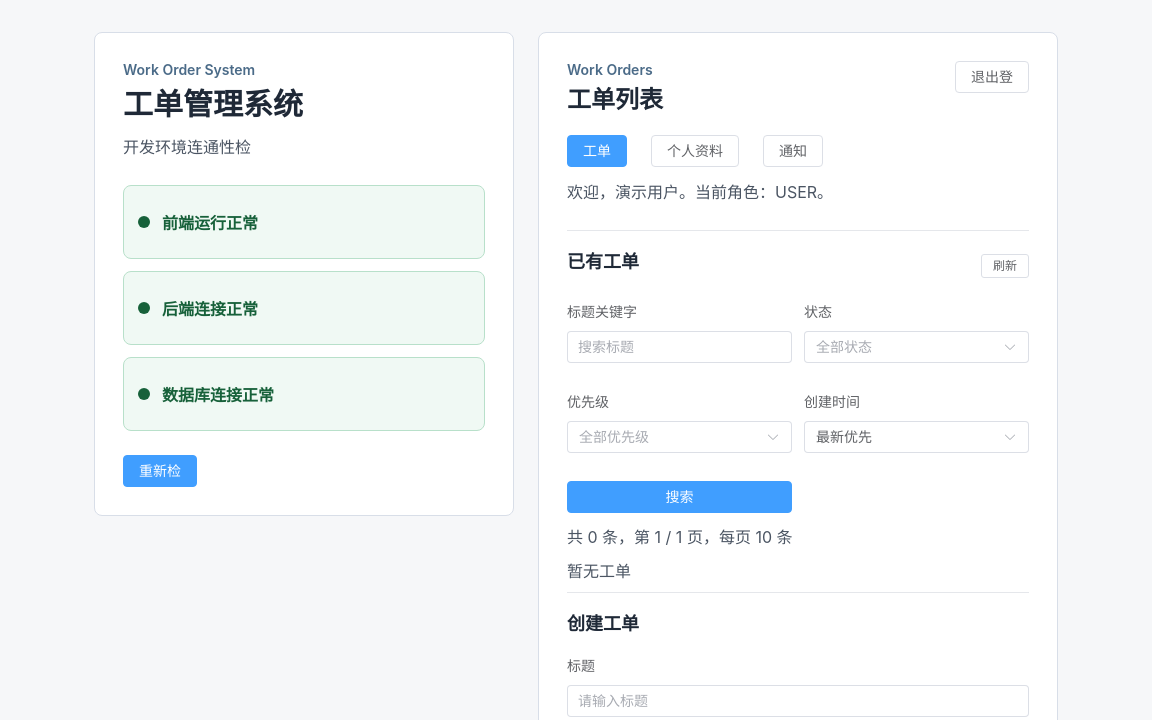
Scenario: App › changes password and returns to login view
Step 1. Click the button "个人资料" → (695, 151), box x1=651 y1=135 x2=739 y2=167
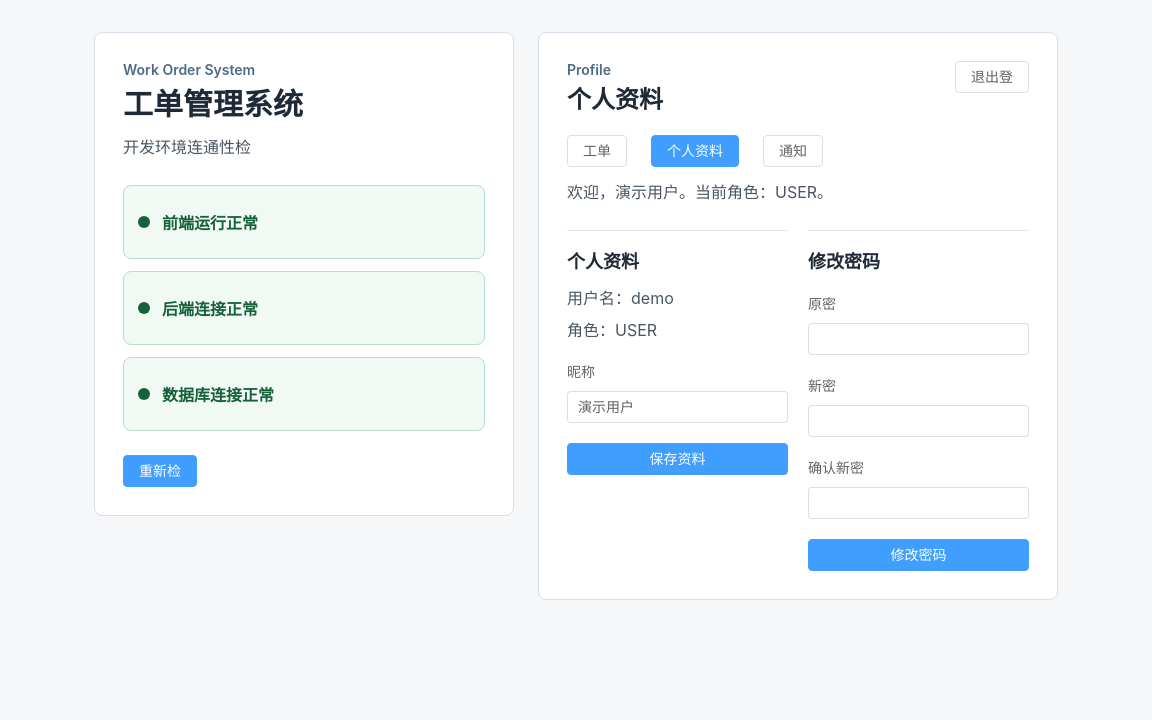
Step 2. Type "password123" into the password field labelled "原密" → (918, 339), box x1=819 y1=324 x2=1018 y2=354
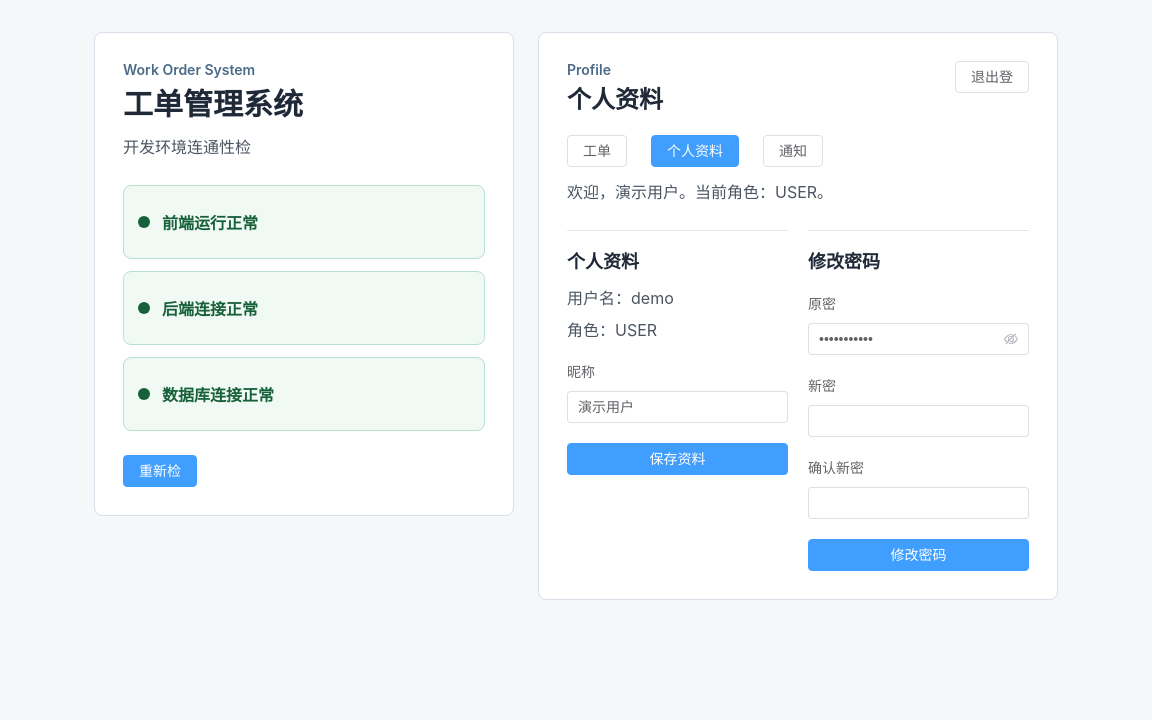
Step 3. Type "newpass123" into the password field labelled "新密" → (918, 421), box x1=819 y1=406 x2=1018 y2=436
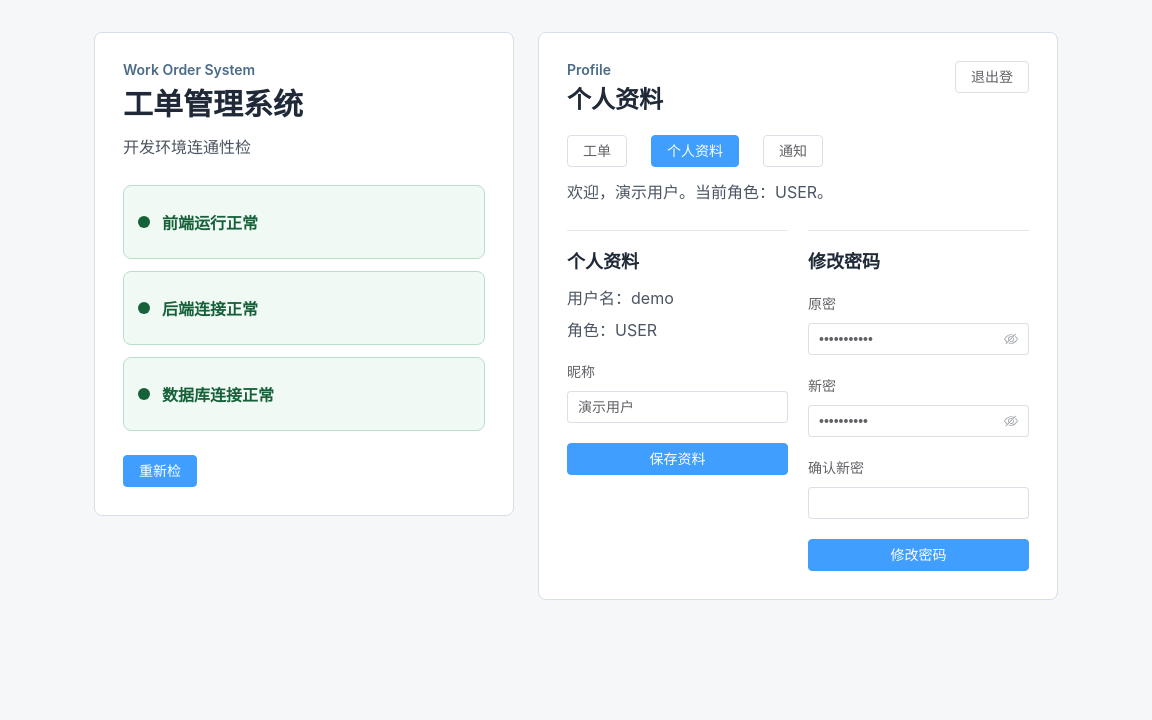
Step 4. Type "newpass123" into the password field labelled "确认新密" → (918, 503), box x1=819 y1=488 x2=1018 y2=518
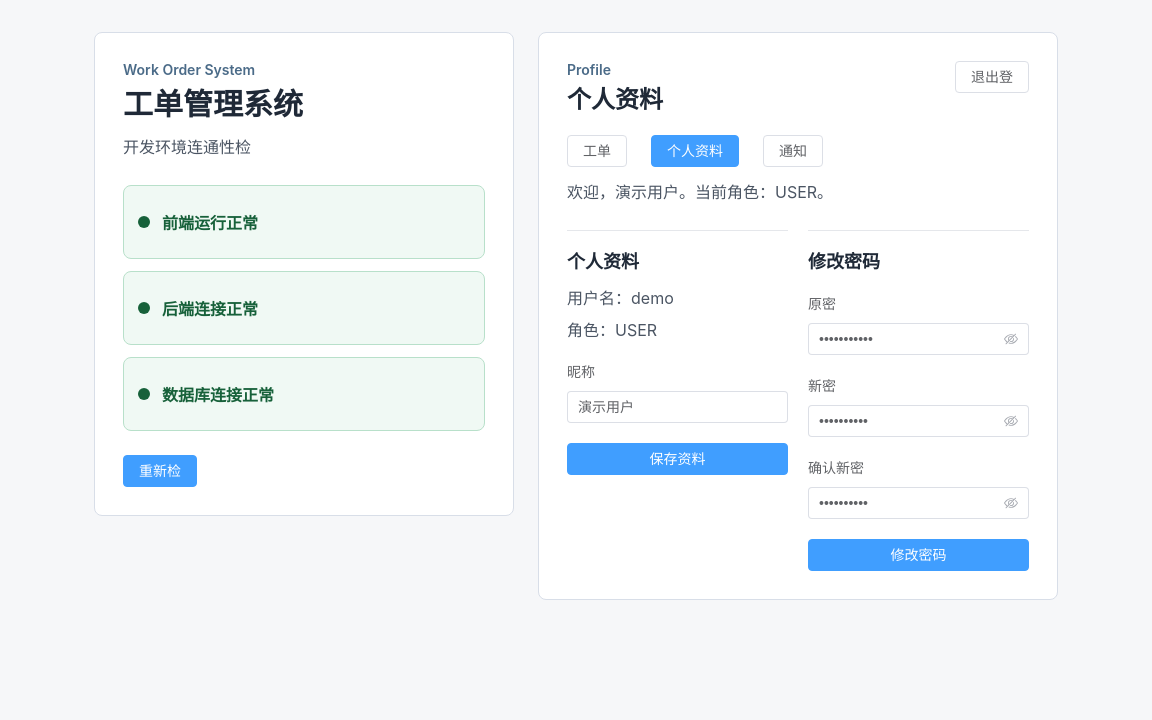
Step 5. Submit the form "原密 新密 确认新密 修改密码", box x1=808 y1=293 x2=1029 y2=571
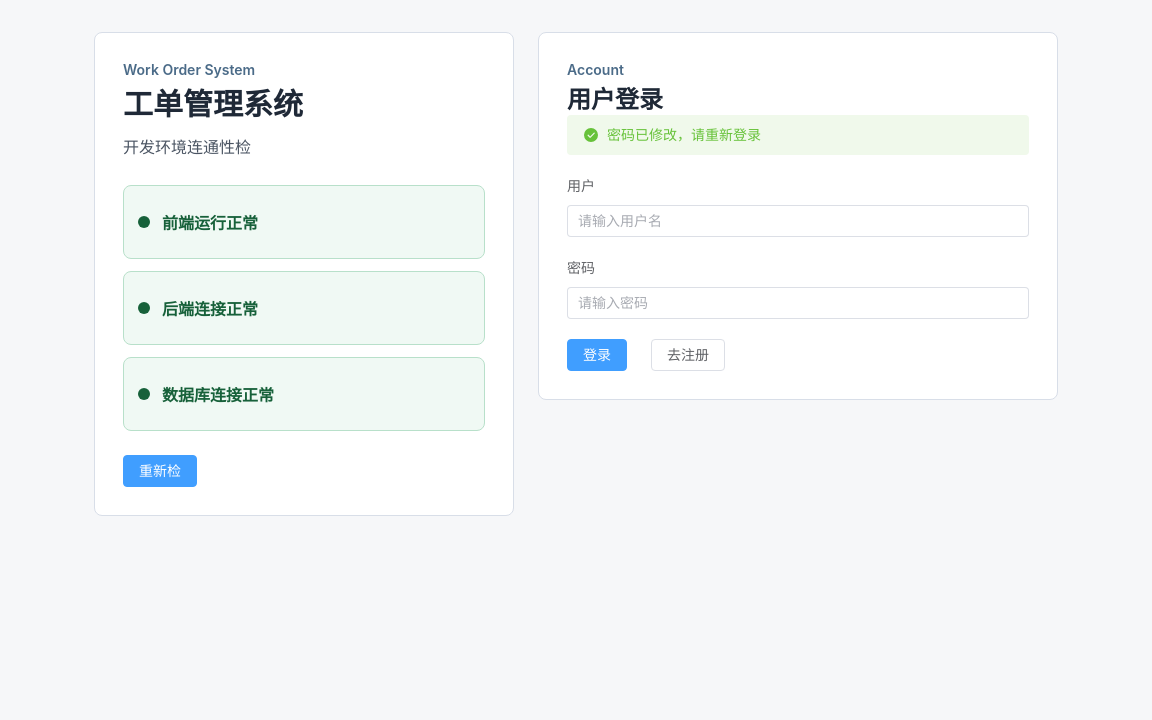
Expected: the text "工单列表" is not shown
Expected: the text "用户登录" is shown, x1=567 y1=85 x2=663 y2=114
Expected: the text "密码已修改，请重新登录" is shown, x1=607 y1=123 x2=761 y2=147
